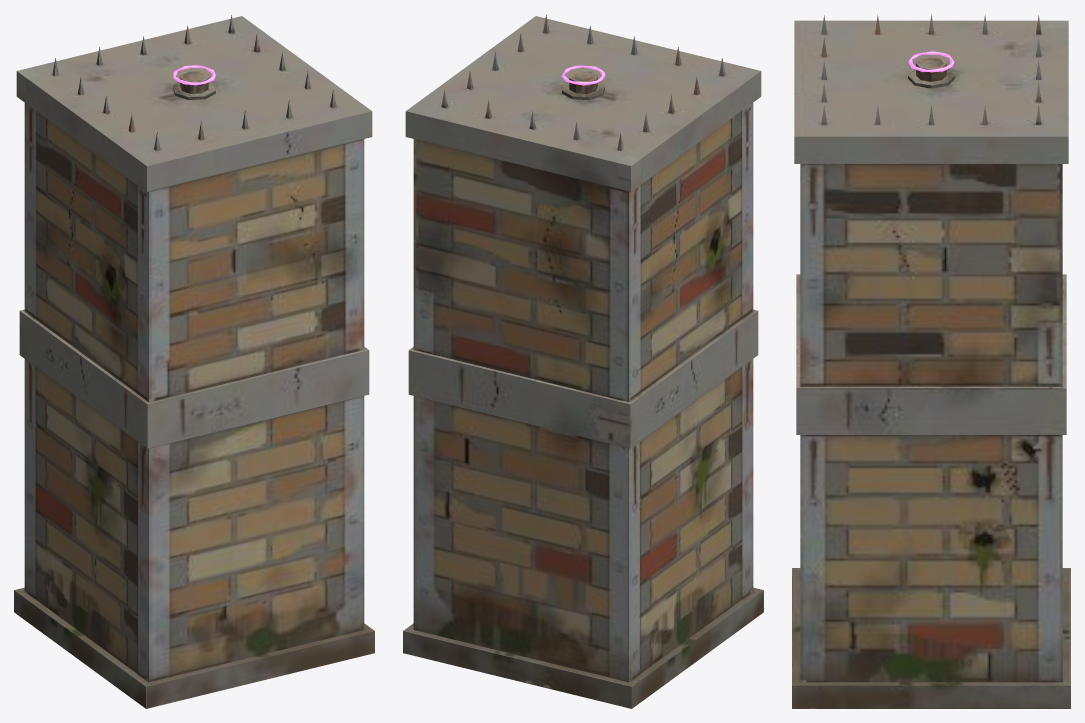
The model's file is muro_tijolo.glb.
3 renders of one model, left to right at view 1: azimuth 30°, elevation 25°; view 2: azimuth 150°, elevation 25°; view 3: azimuth 270°, elevation 25°, orthographic. The views are drawn at different scales.
Parts seen in each view (by area): view 1: muro_tijolo_corpo; view 2: muro_tijolo_corpo; view 3: muro_tijolo_corpo.
Boxes of the visible parts, x1=… form: muro_tijolo_corpo: x1=14, y1=15, x2=374, y2=708; muro_tijolo_corpo: x1=403, y1=15, x2=763, y2=708; muro_tijolo_corpo: x1=792, y1=14, x2=1070, y2=708.
Size of the model in its own units: 0.65 by 1.52 by 0.65.
2 materials, 1 textured.
